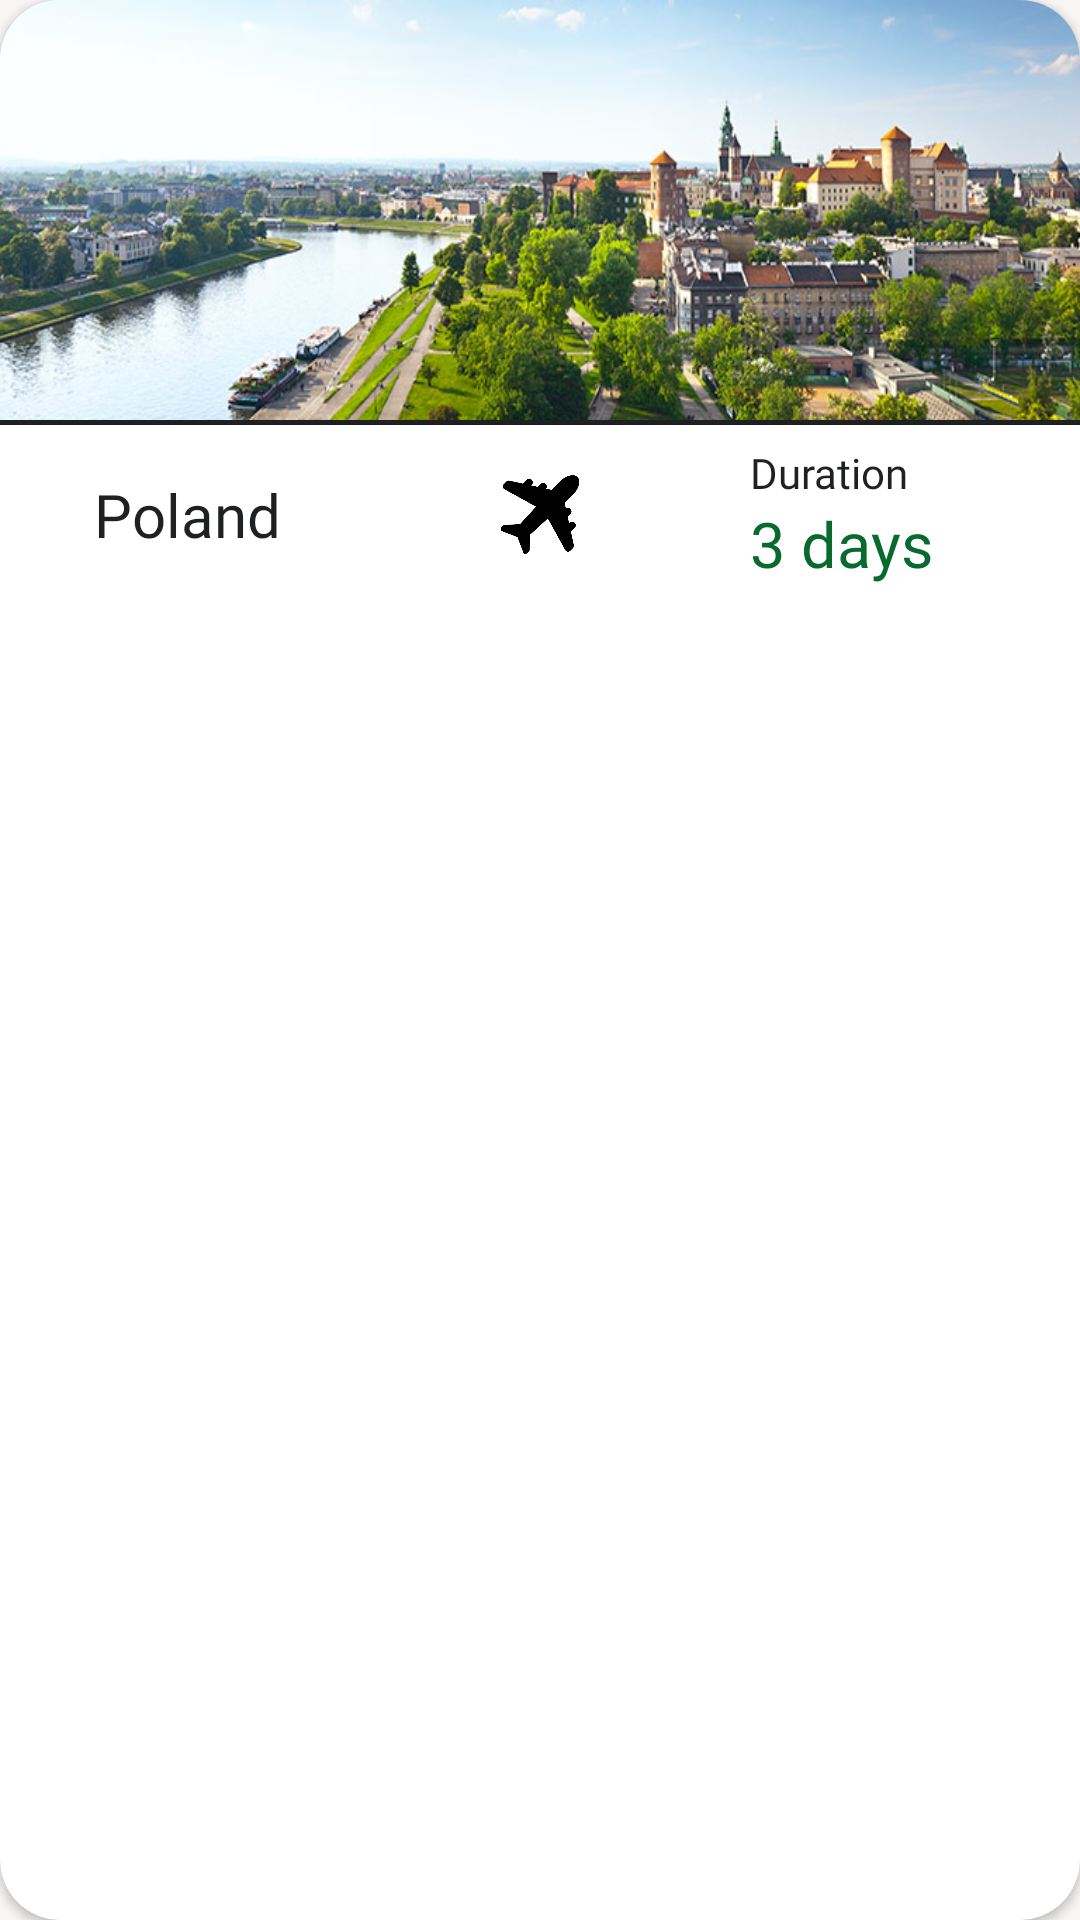

Icon click points for this 1080 x 1920 phone screenshot, format [x,y]:
plane: [540,514]
